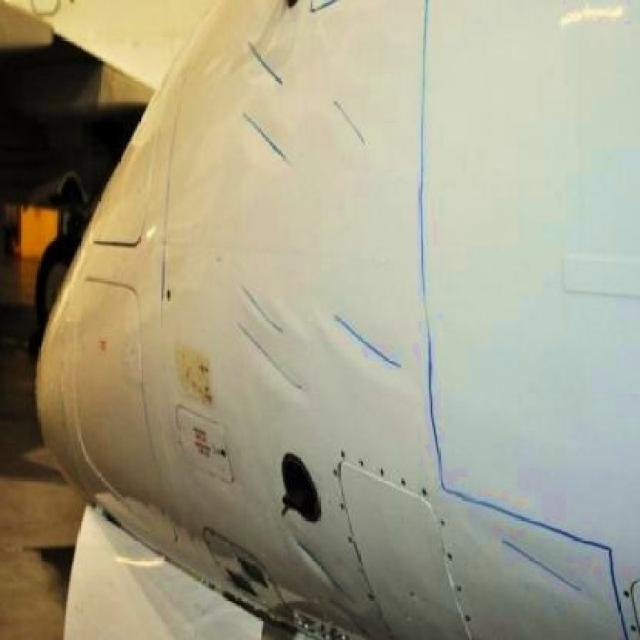dent: (509, 541, 592, 594), (238, 327, 295, 387), (340, 313, 397, 364), (304, 544, 347, 593), (243, 287, 285, 333), (250, 115, 289, 161), (253, 44, 284, 84), (337, 101, 368, 140)
